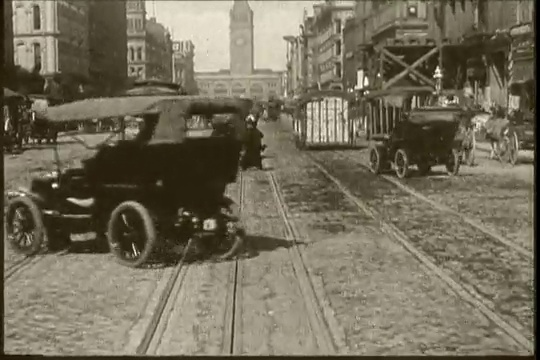car: (0, 89, 268, 265), (363, 102, 465, 184)
carriage: (288, 88, 361, 156), (487, 103, 538, 161)
